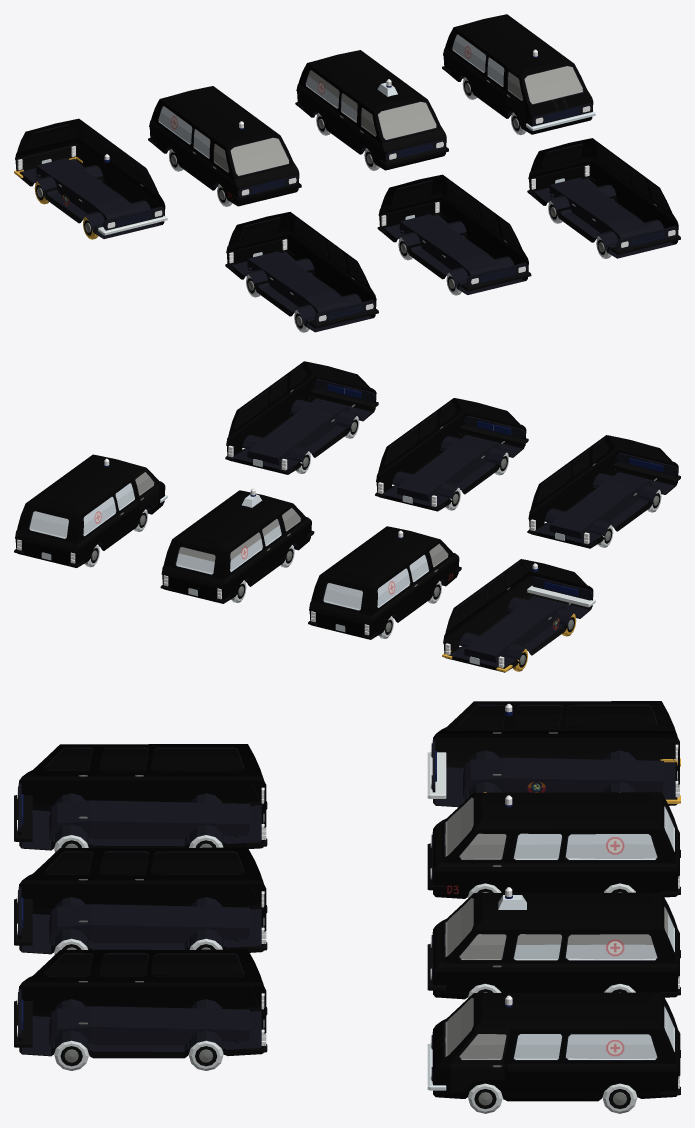
Rendered from Minibuses_RAF-2203_low-poly.glb.
3 views of the same model, one above another, from view 1: azimuth 30°, elevation 25°; view 2: azimuth 150°, elevation 25°; view 3: azimuth 270°, elevation 25° (orthographic). The views are drawn at different scales.
Visible parts, largest first — view 1: unnamed (×11); view 2: unnamed (×19); view 3: unnamed (×19).
Part boxes in pixels (bbox=[...]): unnamed (×11): bbox=[15, 14, 678, 332]; unnamed (×19): bbox=[15, 361, 680, 672]; unnamed (×19): bbox=[14, 701, 680, 1113].
Size of the model in its own units: 15.48 by 2.34 by 13.02.
Materials: 12 (11 with a texture image).
